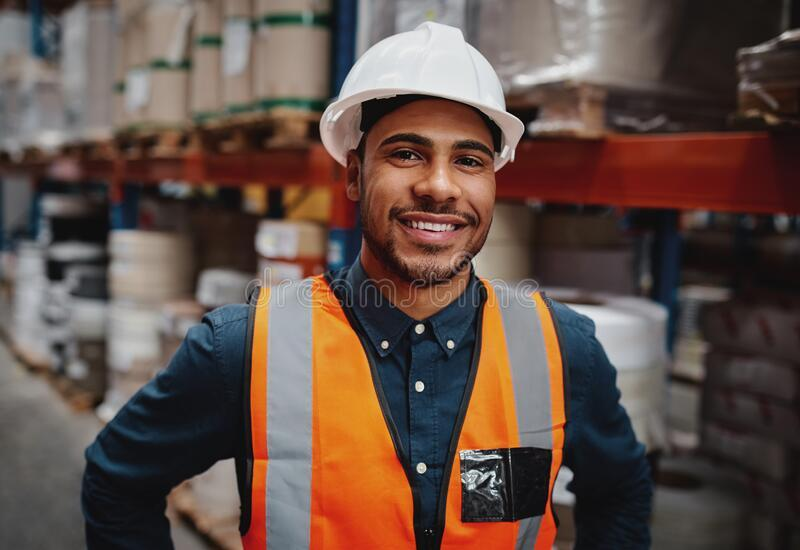hat: (288, 1, 567, 191)
vest: (230, 228, 607, 550)
